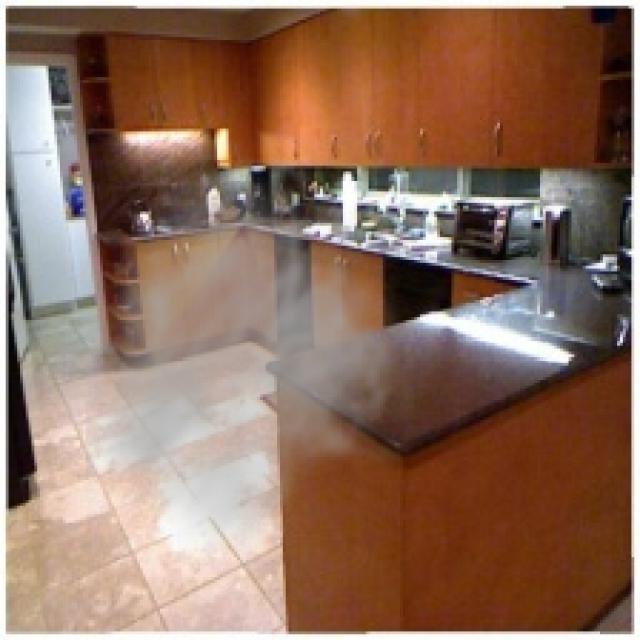Smoke: (86, 160, 432, 566)
